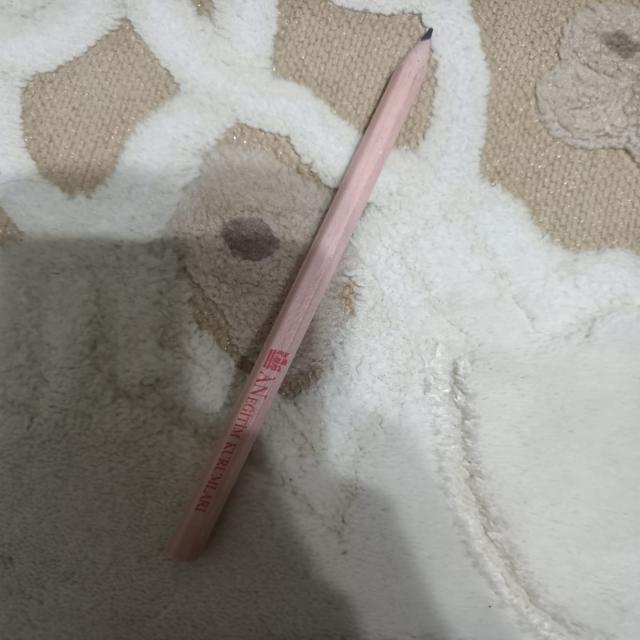pencil: (169, 28, 433, 560)
